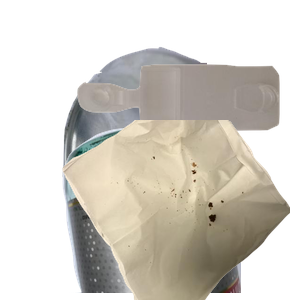glass: (60, 120, 300, 300)
metal: (60, 44, 300, 224)
plastic: (75, 62, 300, 186)
trash: (60, 120, 300, 300)
